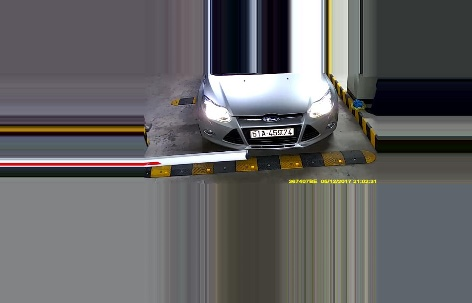plate: (249, 125, 297, 139)
